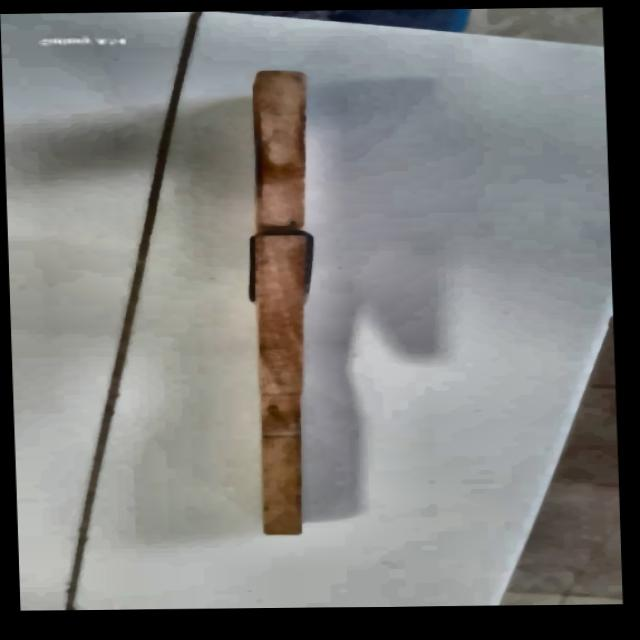Test Tube Holder: (240, 68, 336, 539)
